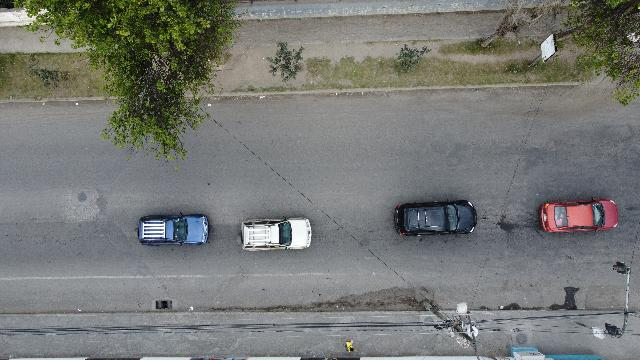Vehiculo: (395, 200, 477, 236), (540, 197, 618, 232), (238, 216, 312, 252), (138, 212, 208, 245)
